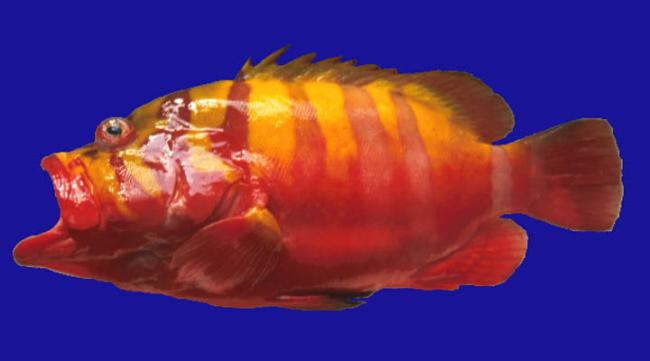fish: (12, 47, 625, 310)
